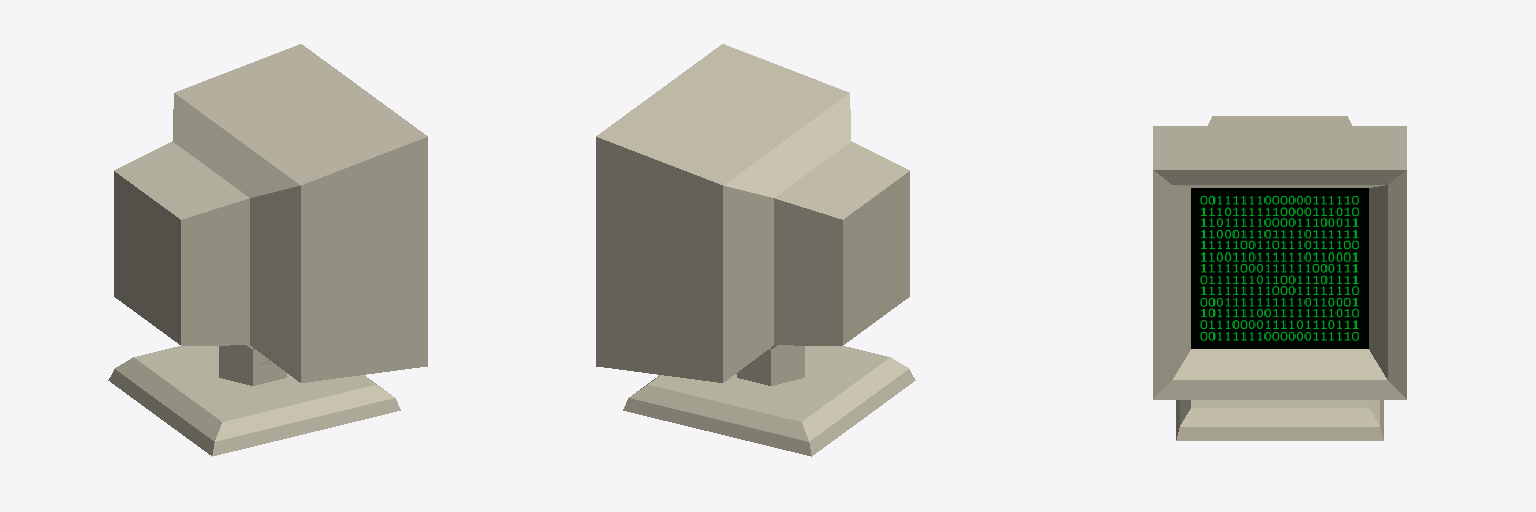
3 views of the same model, side by side, from view 1: azimuth 30°, elevation 25°; view 2: azimuth 150°, elevation 25°; view 3: azimuth 270°, elevation 25° (orthographic).
Parts seen in each view (by area): view 1: monitor; view 2: monitor; view 3: monitor.
Boxes of the visible parts, <box> form: monitor: <box>108,44,427,456</box>; monitor: <box>596,44,915,456</box>; monitor: <box>1153,116,1406,440</box>.
Bounding box in the file's own units: 9.9 × 12.12 × 10.
2 materials, 2 textured.